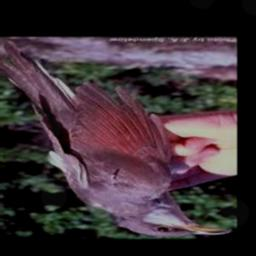Cuckoo: (0, 40, 230, 237)
